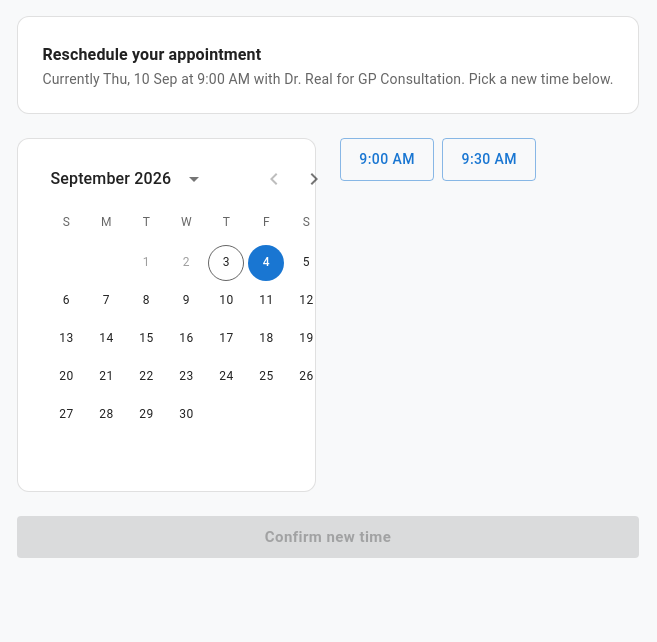
Scenario: reschedule — slot picking and confirmation (P2-16) › surfaces a real slot-conflict error and lets the patient pick another slot
Click the button "9:00 AM". click: (387, 159)
box: [340,138,434,180]
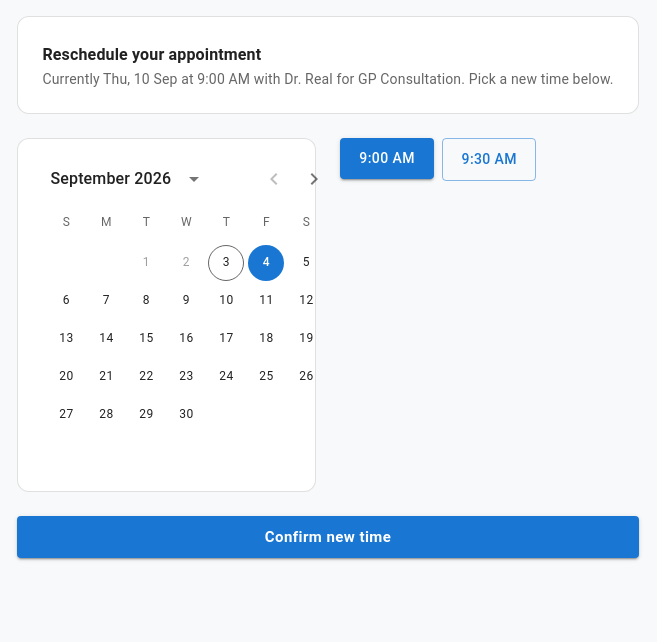
Click the button "Confirm new time". click: (328, 537)
box: [17,516,638,558]
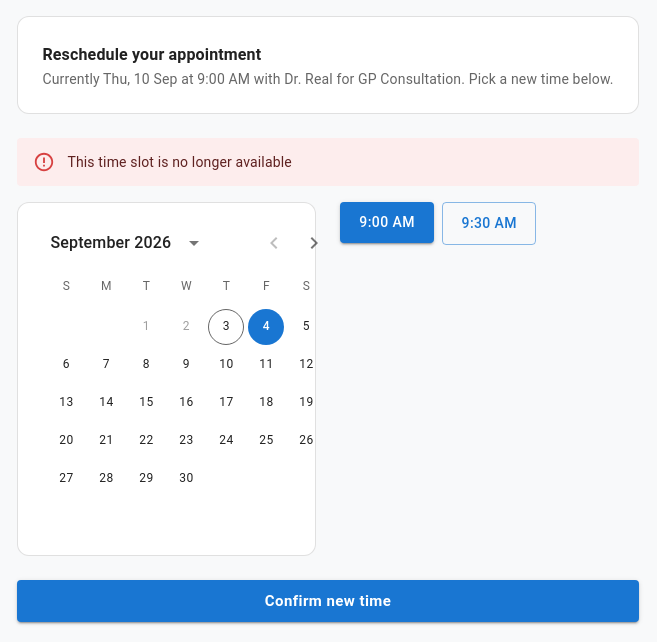
Expected: the button "9:00 AM" is shown, [340,202,434,242]
Expected: the text "This time slot is no longer available" is shown, [67,154,292,170]
